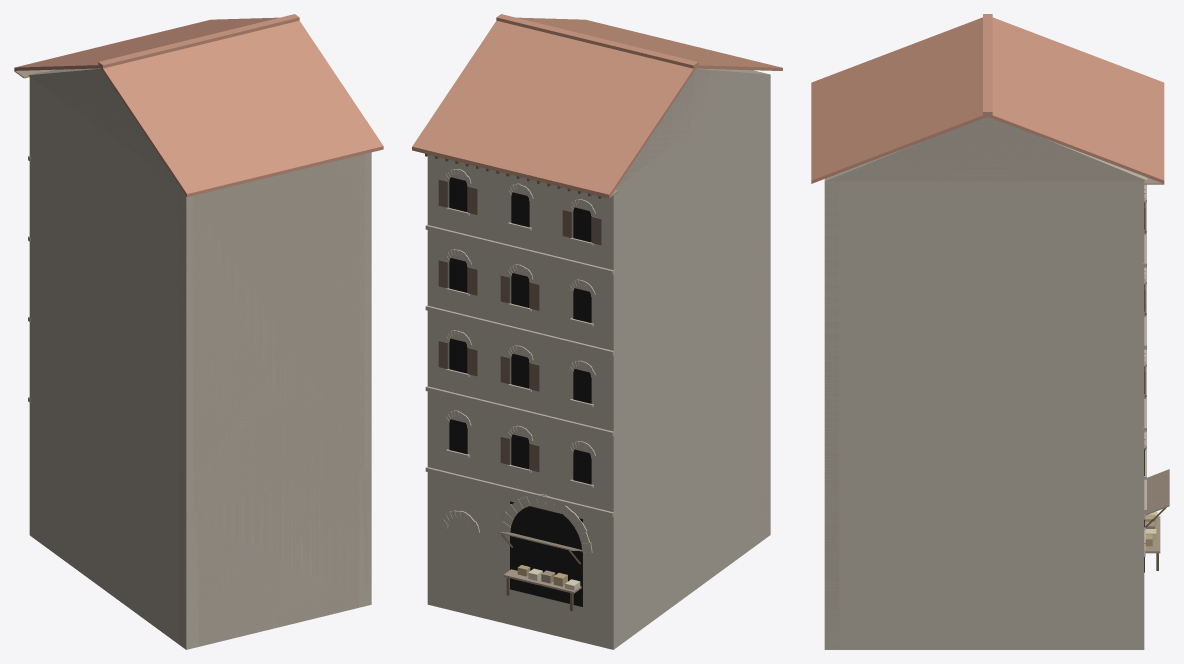
The model's file is casa-82-4-pietra.glb.
3 views of the same model, side by side, from view 1: azimuth 30°, elevation 25°; view 2: azimuth 150°, elevation 25°; view 3: azimuth 270°, elevation 25° (orthographic). The views are drawn at different scales.
Visible parts, largest first — view 1: vicino, lontano; view 2: vicino, lontano, aperta; view 3: vicino, lontano, aperta.
Part boxes in pixels (bbox=[...]): vicino: bbox=[14, 14, 383, 649]; lontano: bbox=[16, 65, 383, 646]; vicino: bbox=[412, 14, 782, 649]; lontano: bbox=[413, 66, 782, 648]; aperta: bbox=[498, 532, 582, 611]; vicino: bbox=[811, 14, 1164, 649]; lontano: bbox=[811, 115, 1163, 649]; aperta: bbox=[1145, 469, 1169, 570].
Bounding box in the file's own units: 8.7 × 22.38 × 13.45.
